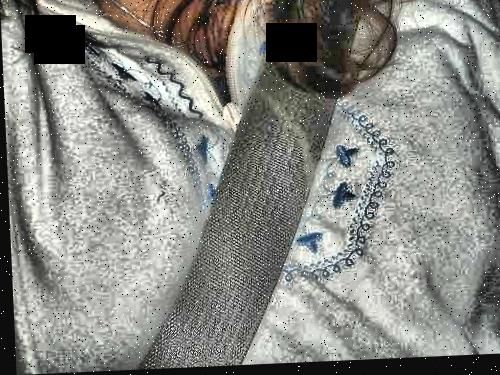seatbelt: (127, 17, 385, 351)
